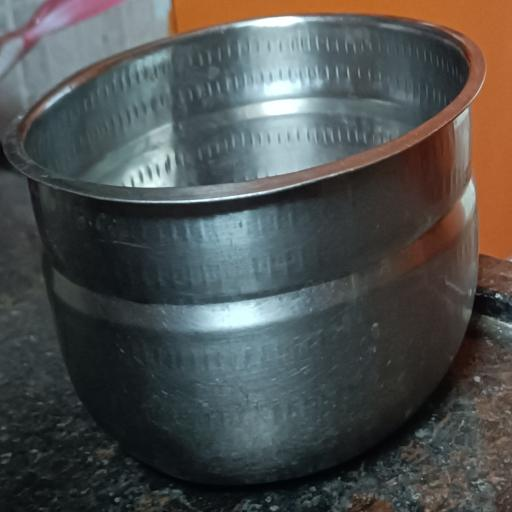vessel: (6, 15, 484, 484)
